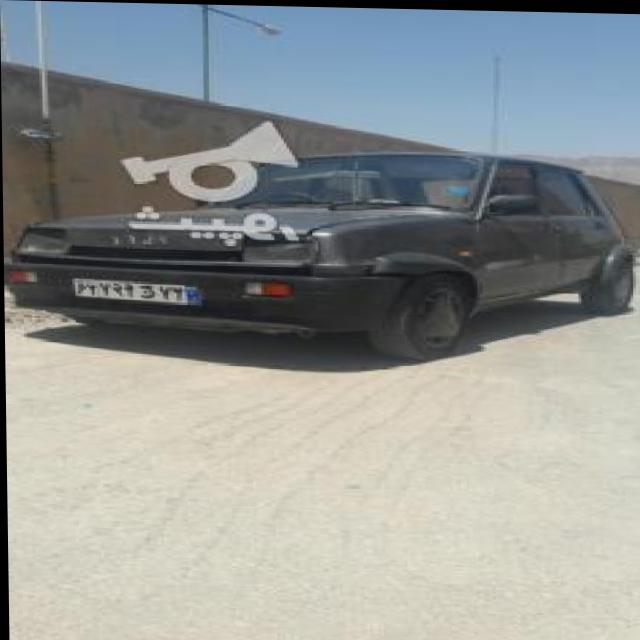licence: (72, 275, 206, 304)
